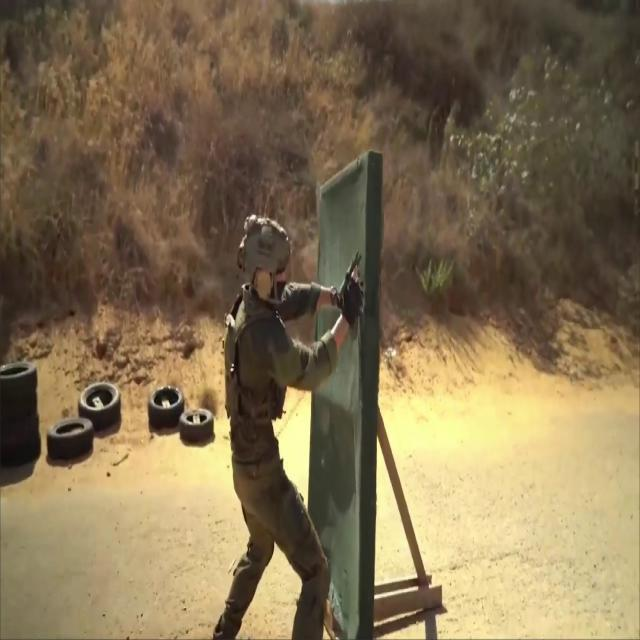weapon: (336, 250, 364, 304)
